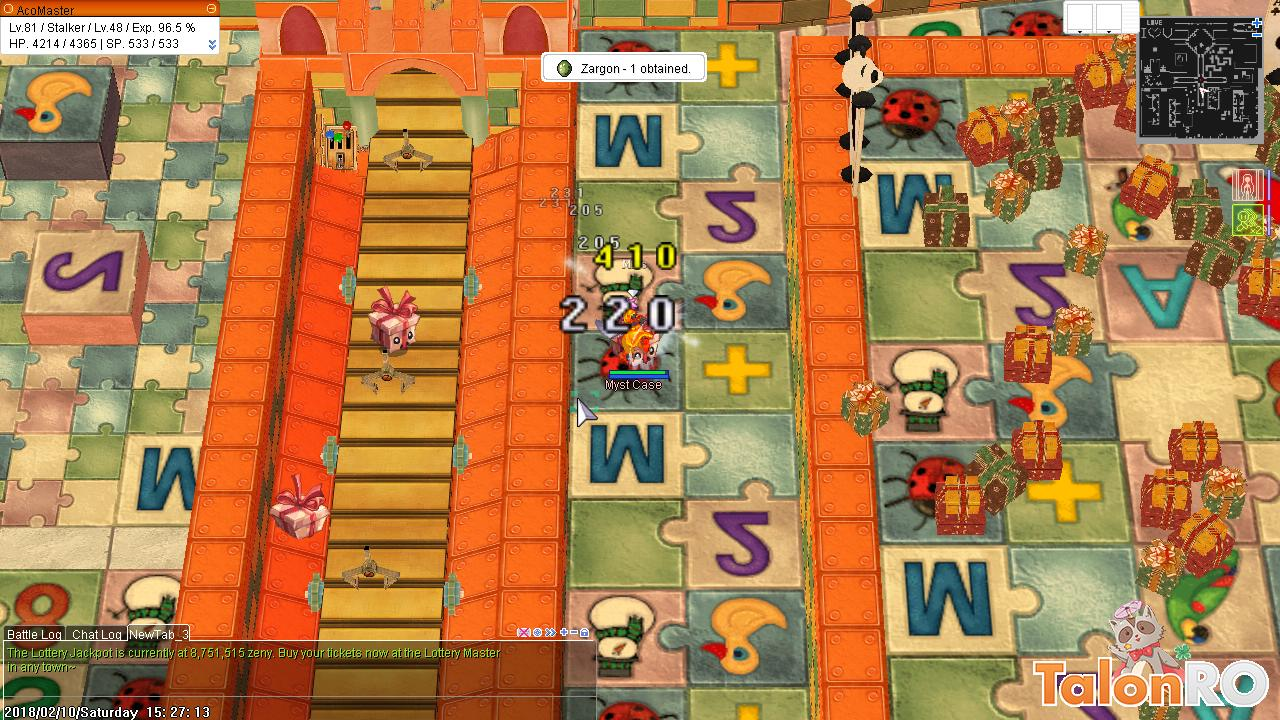myst_case: (265, 468, 331, 546), (367, 285, 425, 356)
